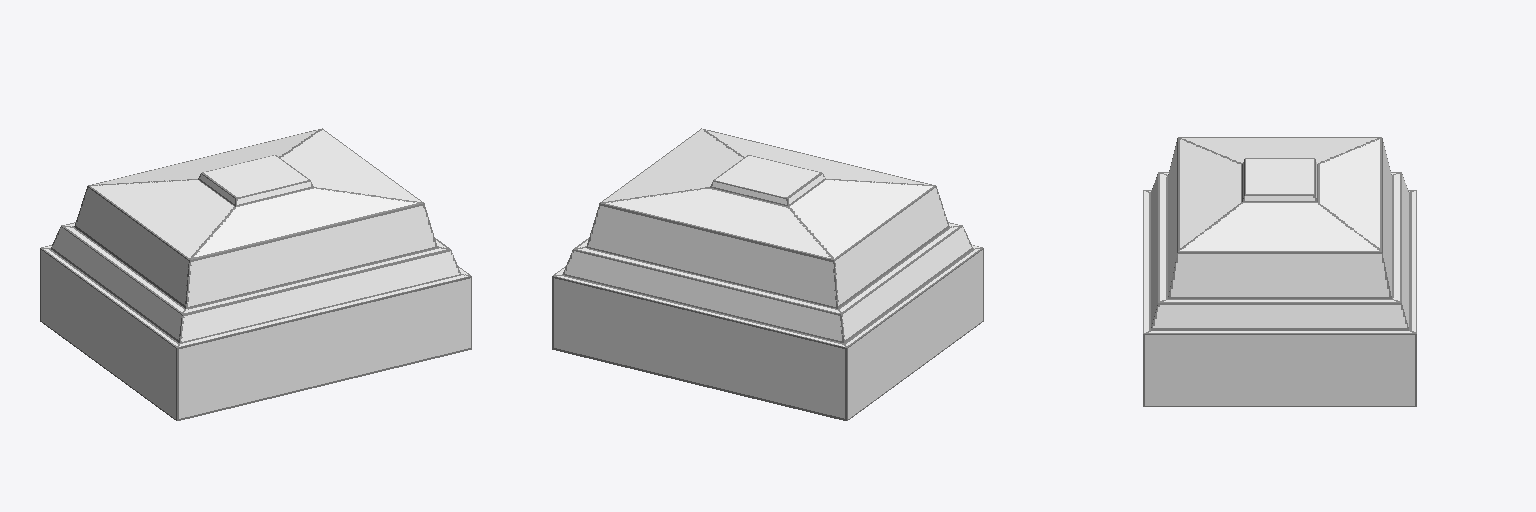
3 views of the same model, side by side, from view 1: azimuth 30°, elevation 25°; view 2: azimuth 150°, elevation 25°; view 3: azimuth 270°, elevation 25° (orthographic).
Parts seen in each view (by area): view 1: cube2_copy5; view 2: cube2_copy5; view 3: cube2_copy5.
Boxes of the visible parts, <box> form: cube2_copy5: <box>40,128,471,420</box>; cube2_copy5: <box>552,128,983,420</box>; cube2_copy5: <box>1143,137,1416,406</box>.
Size of the model in its own units: 1.13 by 0.5834 by 0.912.
Materials: 1 (1 with a texture image).